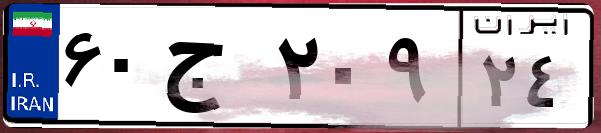0: (330, 28, 385, 110), (110, 28, 158, 98)
2: (270, 28, 330, 110), (475, 38, 525, 113)
4: (525, 38, 570, 115)
6: (57, 26, 110, 100)
9: (385, 28, 445, 110)
ج: (158, 20, 270, 120)
